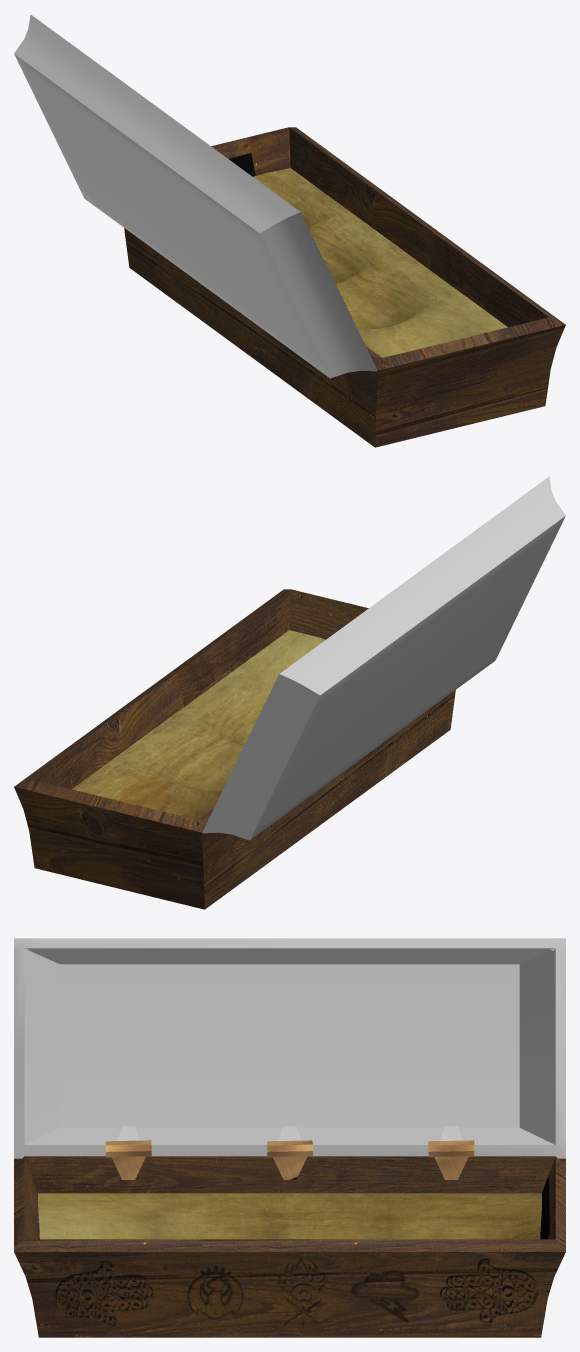
File: Chest_v2.fbx
3 renders of one model, top to bottom at view 1: azimuth 30°, elevation 25°; view 2: azimuth 150°, elevation 25°; view 3: azimuth 270°, elevation 25°, orthographic. The views are drawn at different scales.
Parts seen in each view (by area): view 1: pCube4, pCube1, pCube2; view 2: pCube4, pCube1, pCube2; view 3: pCube4, pCube1, pCube2, pCylinder2, pCylinder3, pCylinder1, pCube8, pCube10, pCube5.
Part boxes in pixels (<box>): pCube4: <box>14,14,377,378</box>; pCube1: <box>124,127,565,447</box>; pCube2: <box>253,168,507,357</box>; pCube4: <box>202,476,565,840</box>; pCube1: <box>14,589,455,909</box>; pCube2: <box>72,630,325,819</box>; pCube4: <box>14,938,565,1158</box>; pCube1: <box>14,1156,565,1337</box>; pCube2: <box>38,1193,541,1239</box>; pCylinder2: <box>105,1140,151,1157</box>; pCylinder3: <box>428,1140,474,1157</box>; pCylinder1: <box>267,1140,312,1157</box>; pCube8: <box>111,1156,145,1179</box>; pCube10: <box>434,1156,468,1179</box>; pCube5: <box>273,1156,307,1179</box>.
Bounding box in the file's own units: 0.3225 × 0.2818 × 0.5131.
